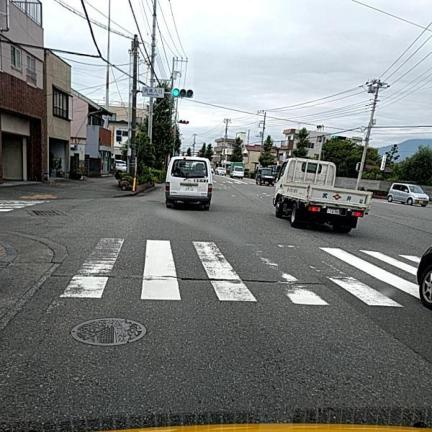Road: (0, 176, 431, 430)
